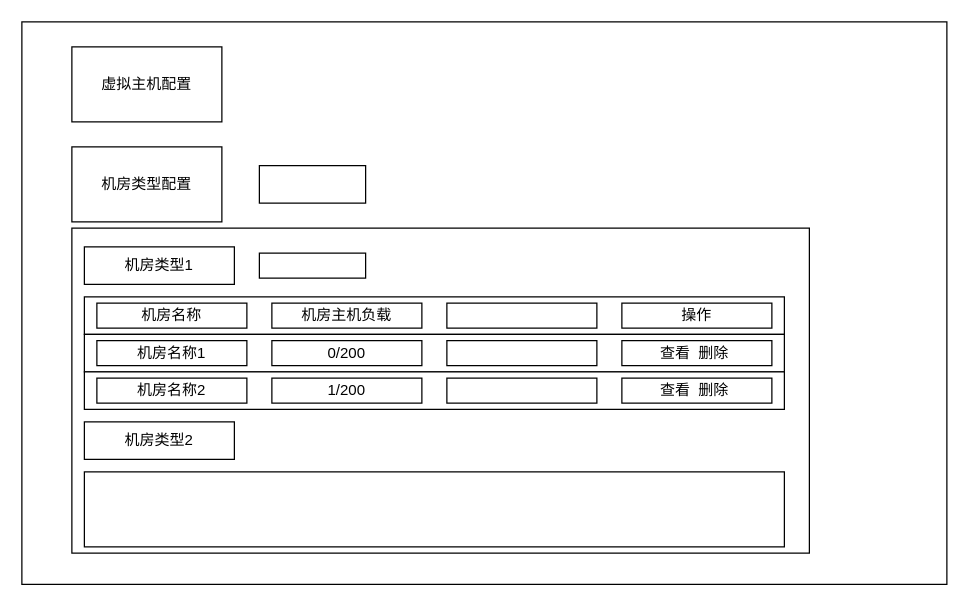
Some shapes in this 969 by 606 pixel diagram are drawn without their labels. The centre of each missing label's shape, as x and y in pixels:
"新增机房" belongs at point 312,265.
"新增机房类型" belongs at point 312,183.
